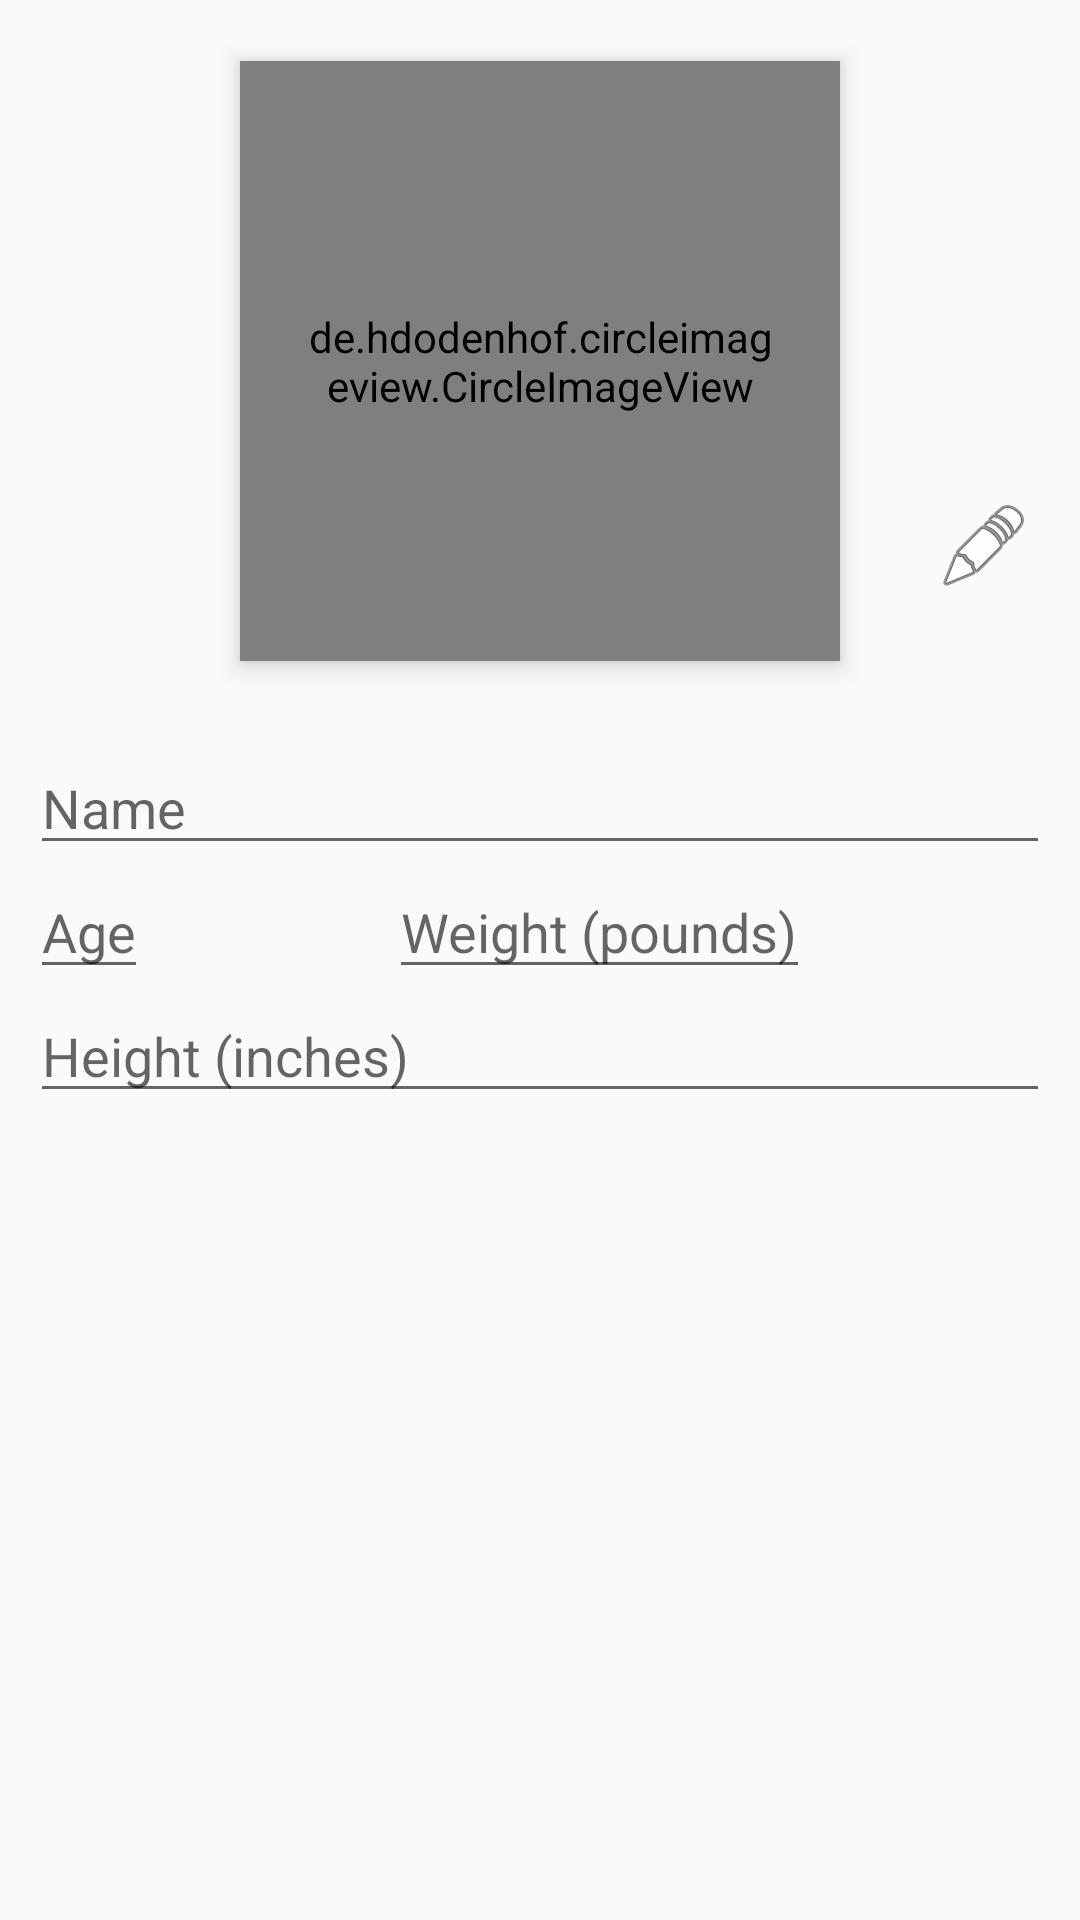

Point at icon controls on the screen. Image size 1080 x 1920, points as (x=x, y=y).
profile edit: (x=983, y=545)
